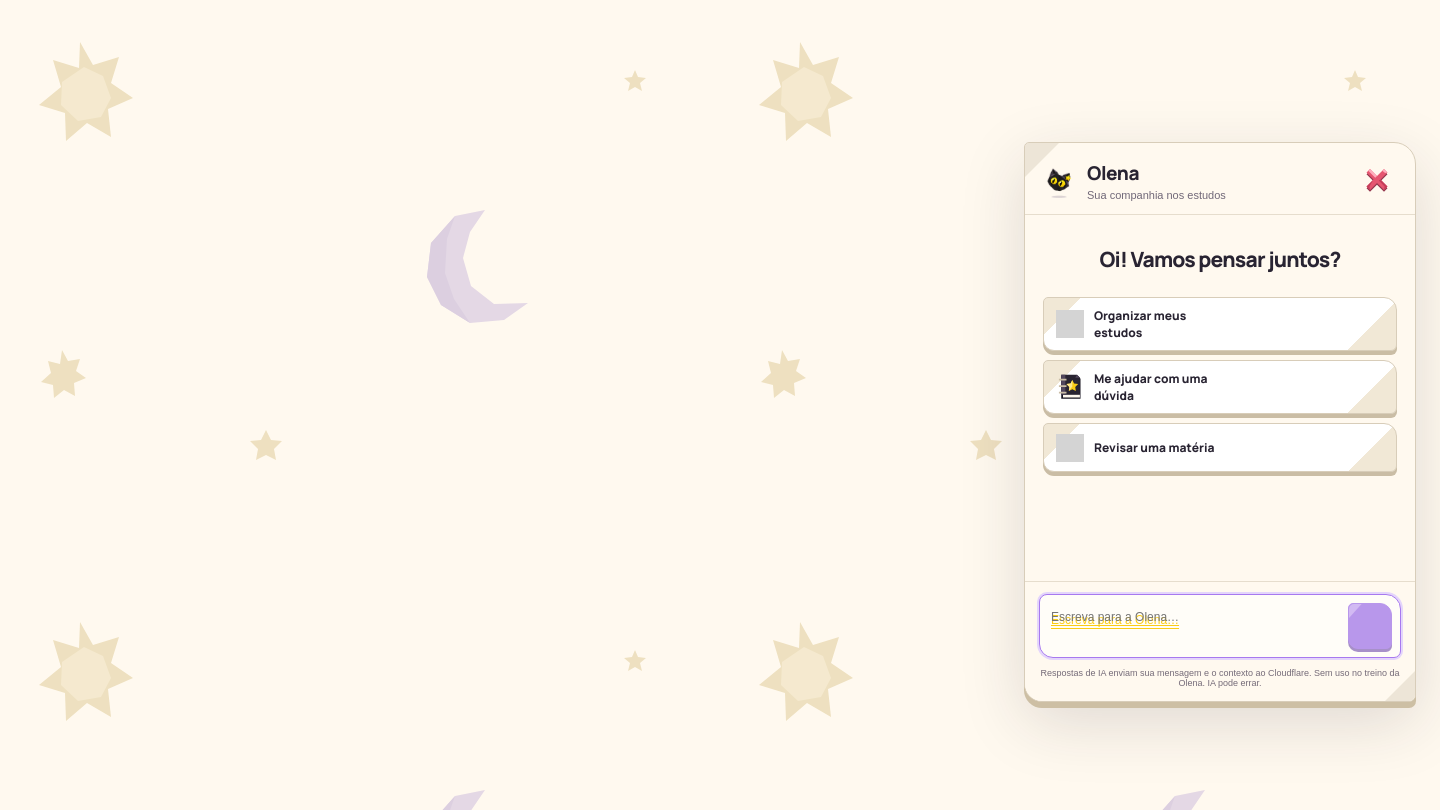
Test: uses the authenticated teacher with screen context and no training retention
Type "Explique divisão" into the text box.
click(1194, 626); type("Explique divisão")  # box top-left (1048, 603), bottom-right (1340, 649)
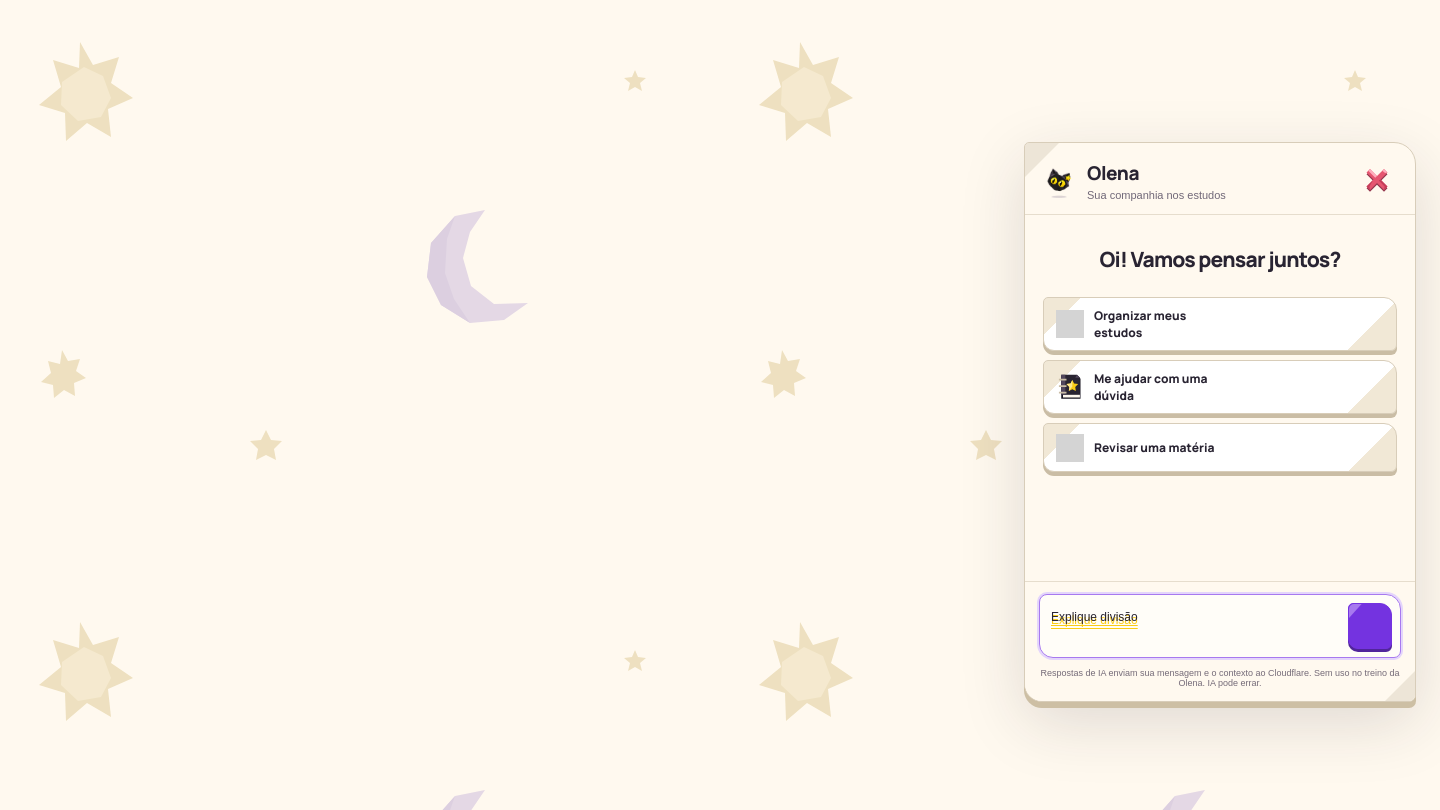
Click the button named "Enviar mensagem".
click(1370, 626)  # box top-left (1348, 603), bottom-right (1392, 649)
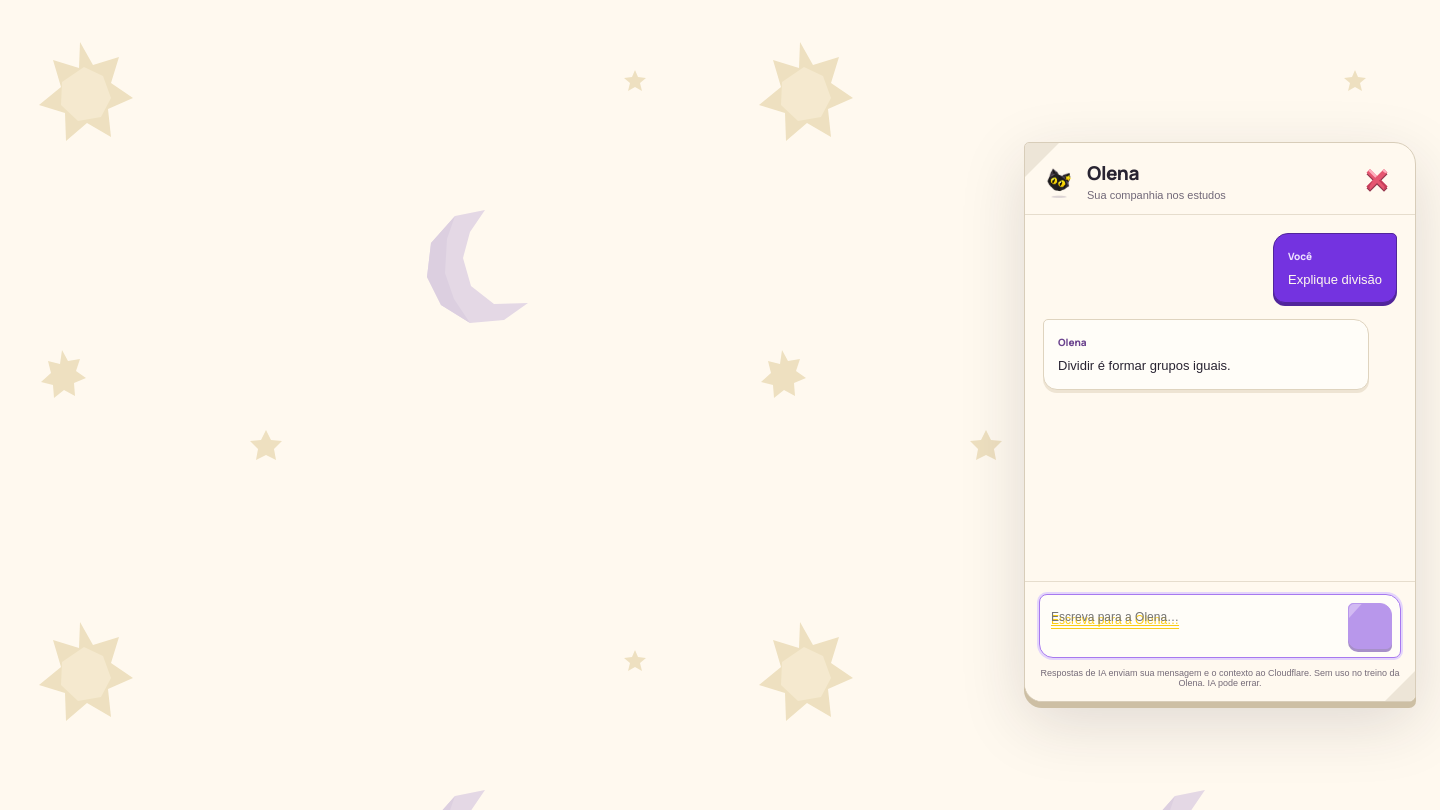
Expected: the text "Dividir é formar grupos iguais." is shown, top-left (1058, 358), bottom-right (1231, 373)
